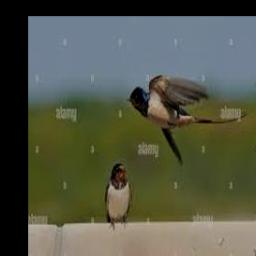Swallow: (128, 76, 247, 165), (105, 163, 131, 227)
